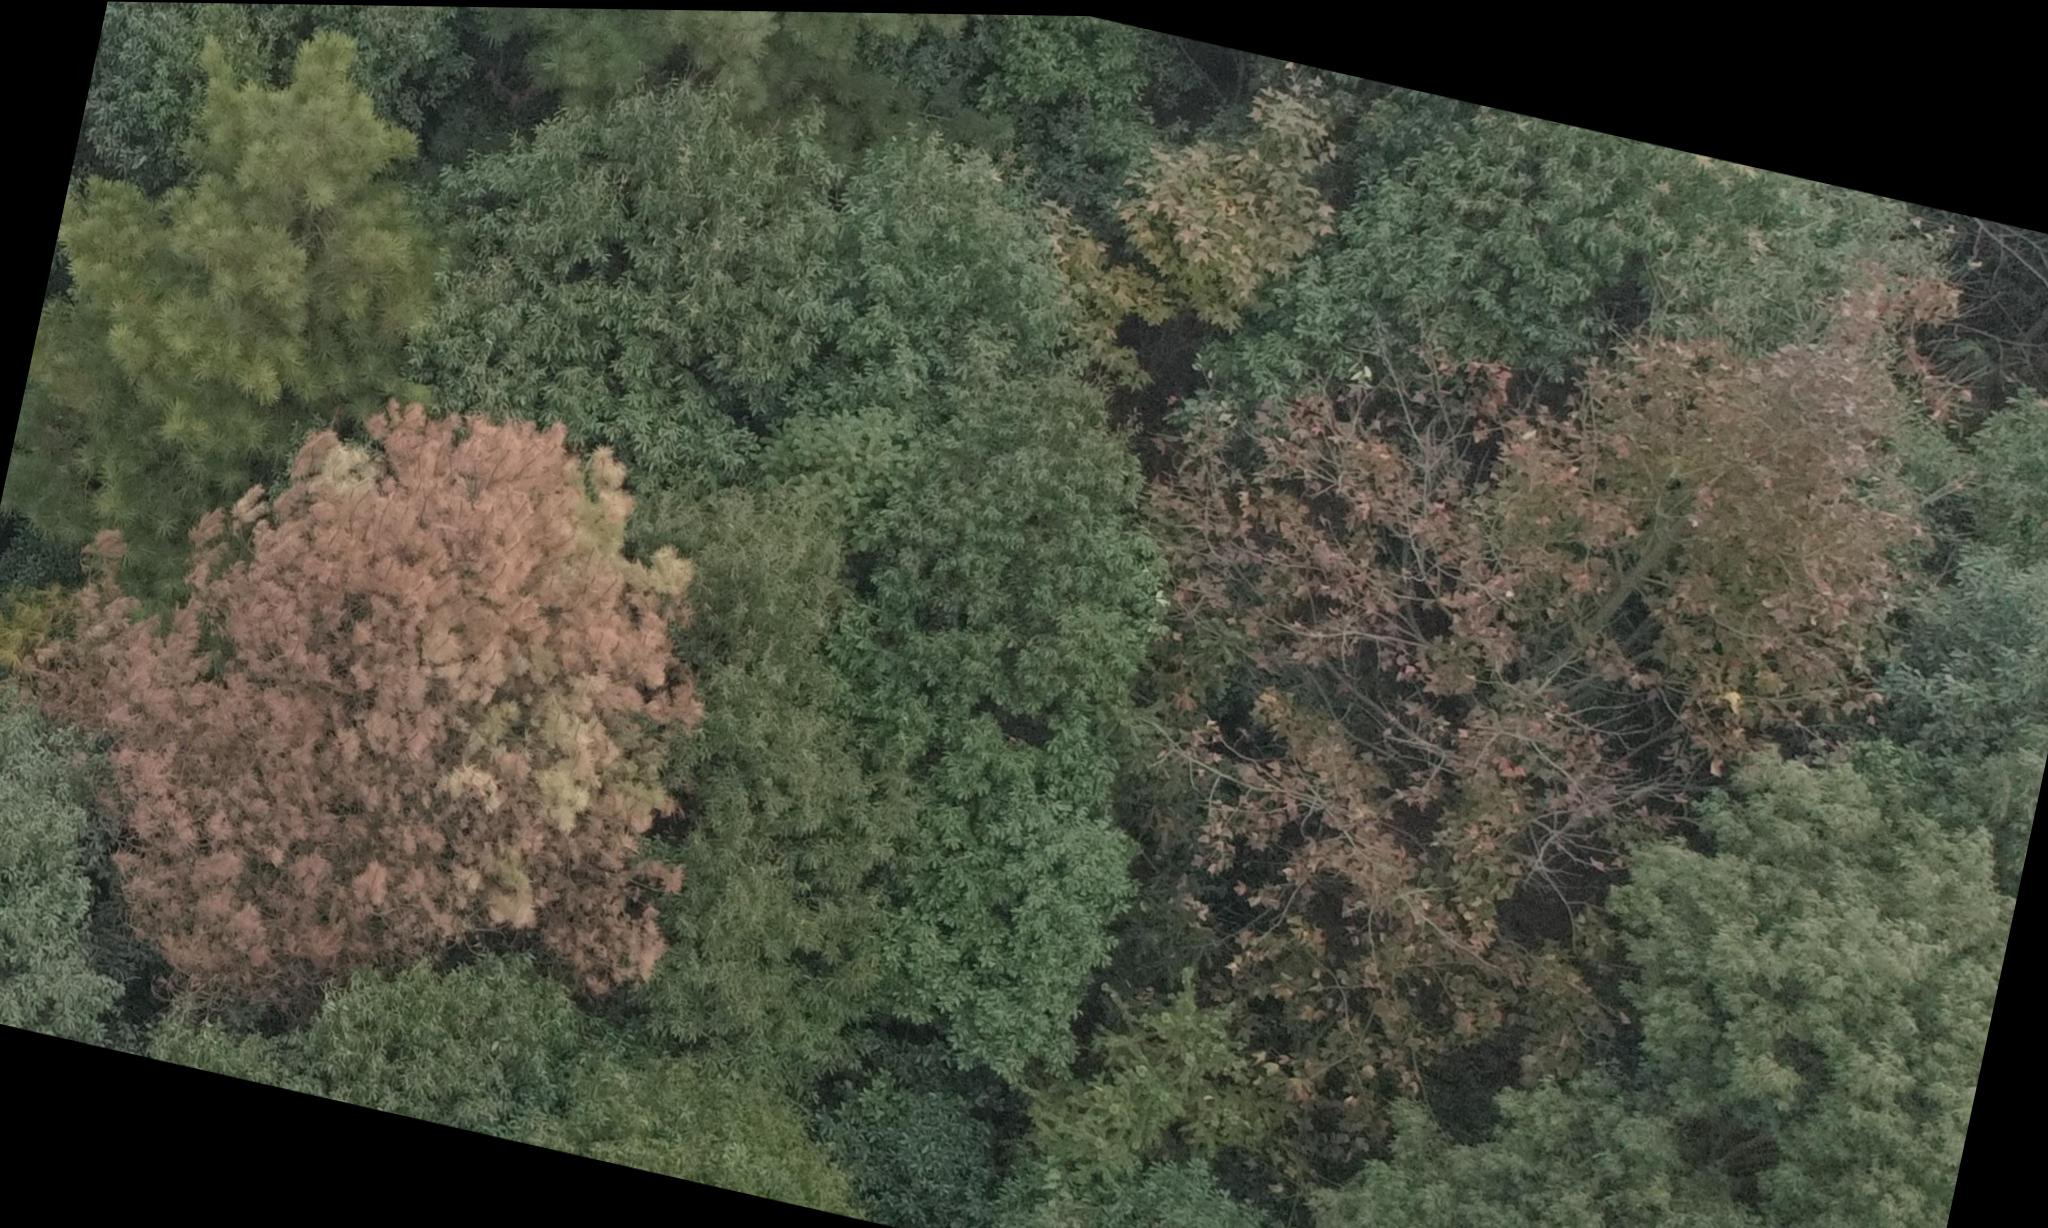heavy: (0, 322, 784, 1098)
